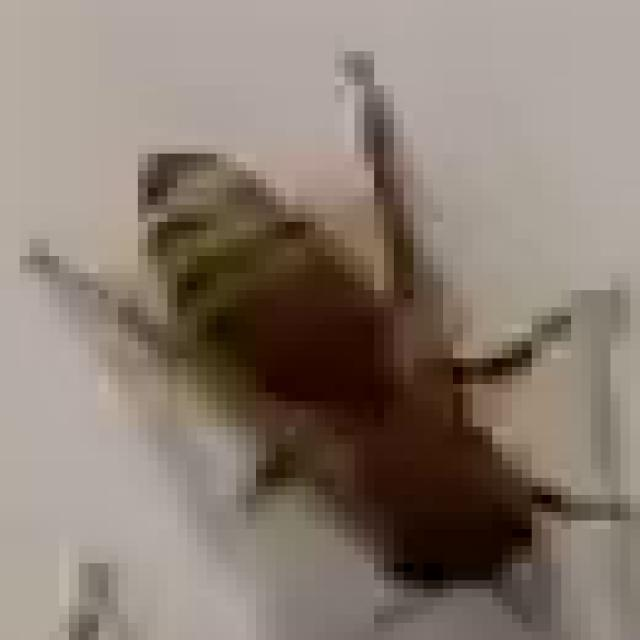honeybee: (115, 107, 586, 623)
